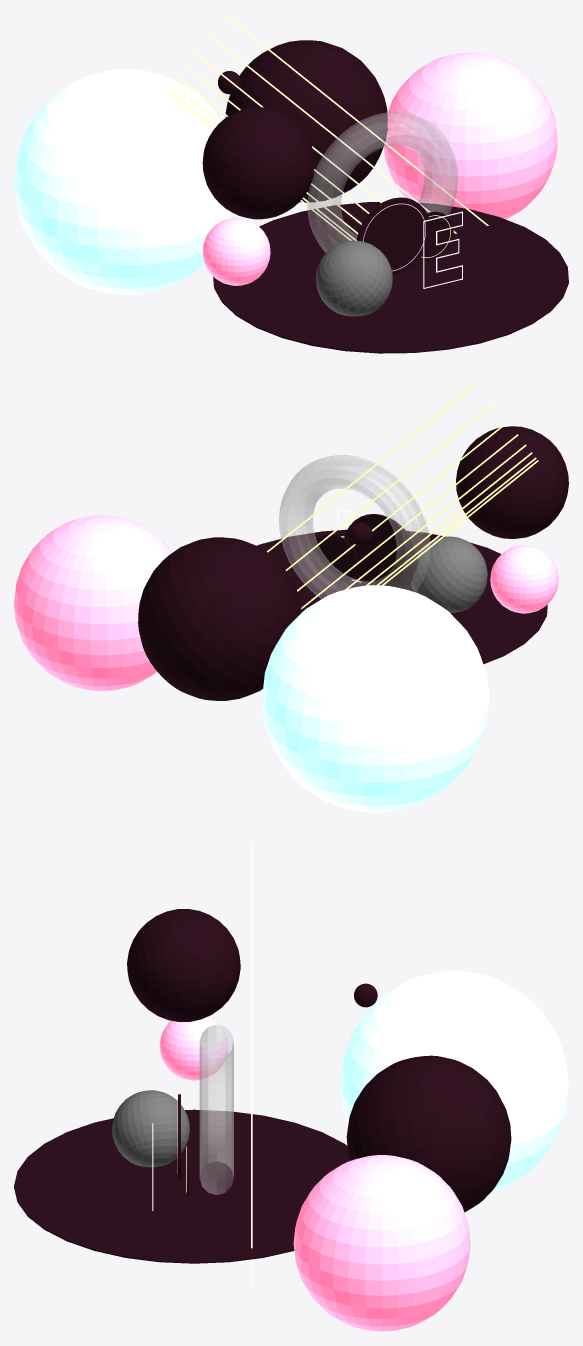
The model's file is good_6.gltf.
The picture shows the model from 3 angles, top to bottom: view 1: azimuth 30°, elevation 25°; view 2: azimuth 150°, elevation 25°; view 3: azimuth 270°, elevation 25°; orthographic projection.
Parts seen in each view (by area): view 1: Sphere.006, Cylinder, Sphere.004, Sphere, Sphere.001, Torus.005, Sphere.003, Cylinder.009, Sphere.005, Cylinder.001, Cube.006, Cube.005 (+1 smaller); view 2: Sphere.006, Sphere.004, Sphere, Torus.005, Sphere.001, Cylinder, Sphere.003, Sphere.005, Cylinder.009, Cylinder.001, Cube.003, Cube.006 (+2 smaller); view 3: Cylinder, Sphere.004, Sphere.006, Sphere, Sphere.001, Torus.005, Sphere.003, Sphere.005, Cube.006.
Part boxes in pixels (left/top/right/bottom): Sphere.006: left=14, top=69, right=234, bottom=294; Cylinder: left=213, top=202, right=568, bottom=353; Sphere.004: left=384, top=52, right=557, bottom=219; Sphere: left=225, top=40, right=387, bottom=202; Sphere.001: left=202, top=107, right=314, bottom=219; Torus.005: left=307, top=112, right=457, bottom=252; Sphere.003: left=316, top=240, right=392, bottom=316; Cylinder.009: left=357, top=197, right=430, bottom=275; Sphere.005: left=202, top=218, right=270, bottom=285; Cylinder.001: left=419, top=211, right=453, bottom=260; Cube.006: left=225, top=14, right=488, bottom=225; Cube.005: left=209, top=35, right=456, bottom=233; Sphere.006: left=262, top=585, right=489, bottom=812; Sphere.004: left=14, top=515, right=172, bottom=691; Sphere: left=138, top=537, right=301, bottom=700; Torus.005: left=279, top=455, right=430, bottom=598; Sphere.001: left=456, top=426, right=568, bottom=538; Cylinder: left=256, top=529, right=547, bottom=664; Sphere.003: left=411, top=536, right=487, bottom=612; Sphere.005: left=490, top=545, right=558, bottom=613; Cylinder.009: left=344, top=514, right=418, bottom=588; Cylinder.001: left=312, top=534, right=358, bottom=583; Cube.003: left=301, top=434, right=518, bottom=609; Cube.006: left=266, top=382, right=478, bottom=552; Cylinder: left=14, top=1109, right=349, bottom=1263; Sphere.004: left=293, top=1155, right=470, bottom=1331; Sphere.006: left=340, top=970, right=568, bottom=1193; Sphere: left=346, top=1055, right=511, bottom=1212; Sphere.001: left=127, top=909, right=240, bottom=1021; Torus.005: left=199, top=1025, right=233, bottom=1194; Sphere.003: left=112, top=1090, right=189, bottom=1167; Sphere.005: left=159, top=1016, right=228, bottom=1080; Cube.006: left=251, top=841, right=252, bottom=1248.
Bounding box in the file's own units: 171 × 117 × 169.
